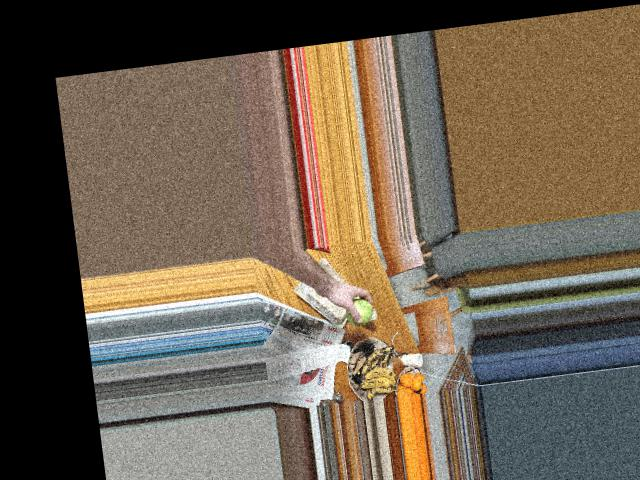apple: (338, 293, 377, 327)
